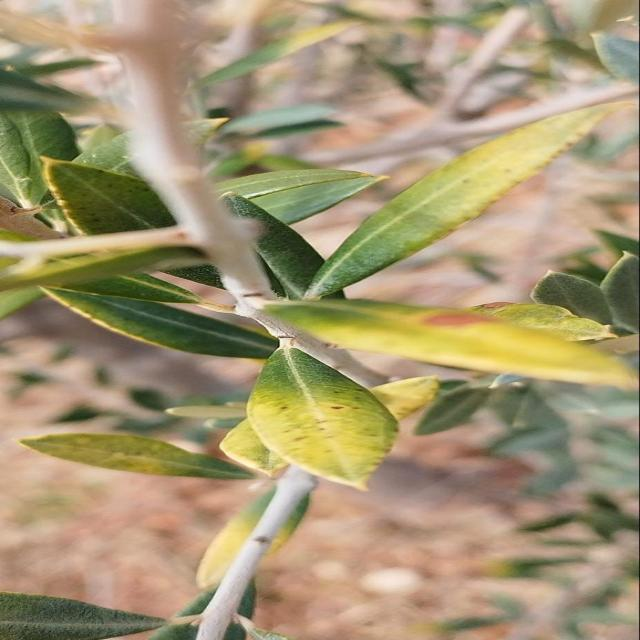OlivePeacockSpot: (317, 106, 610, 299), (284, 301, 626, 386), (246, 348, 438, 488)
